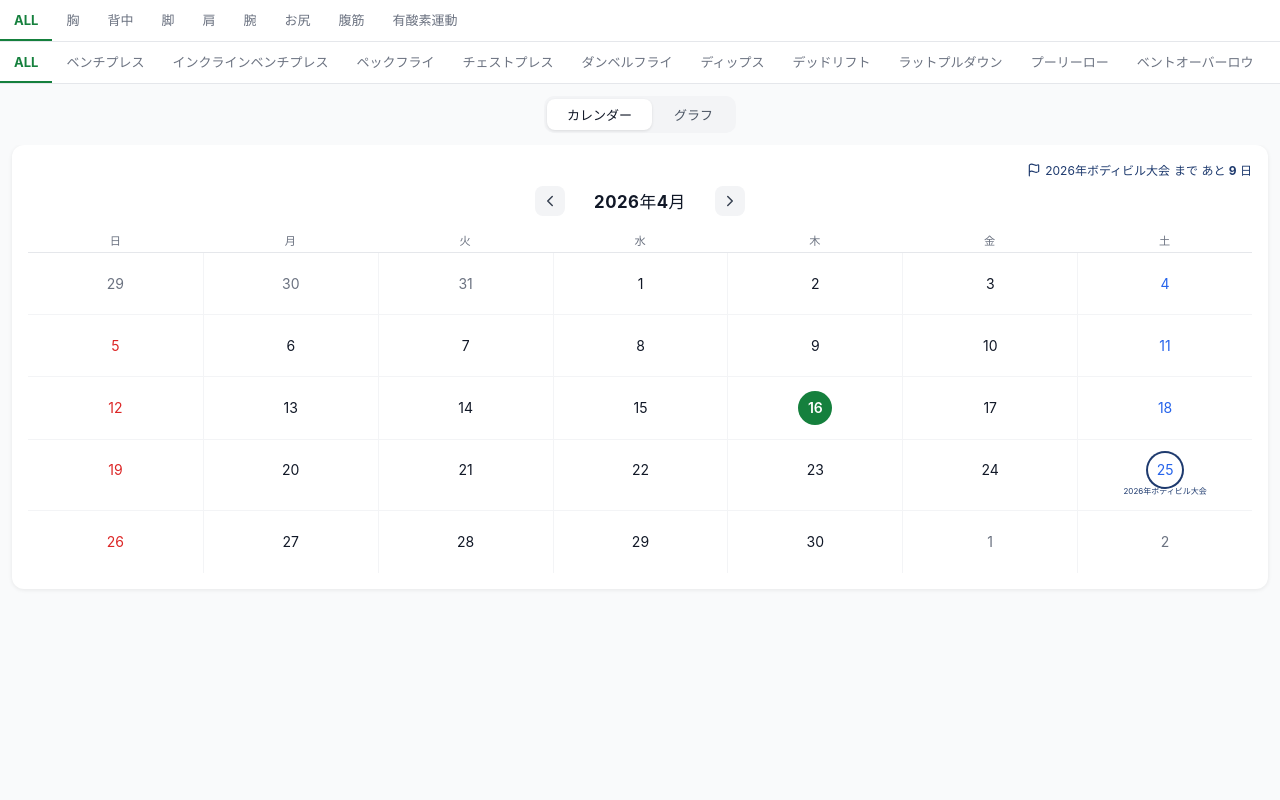
Test: HistoryPage — 日付を押したとき › ポップアップを閉じると消える
The width and height of the screenshot is (1280, 800).
Click the button "25 2026年ボディビル大会": (1165, 474) [1077, 439, 1252, 510]
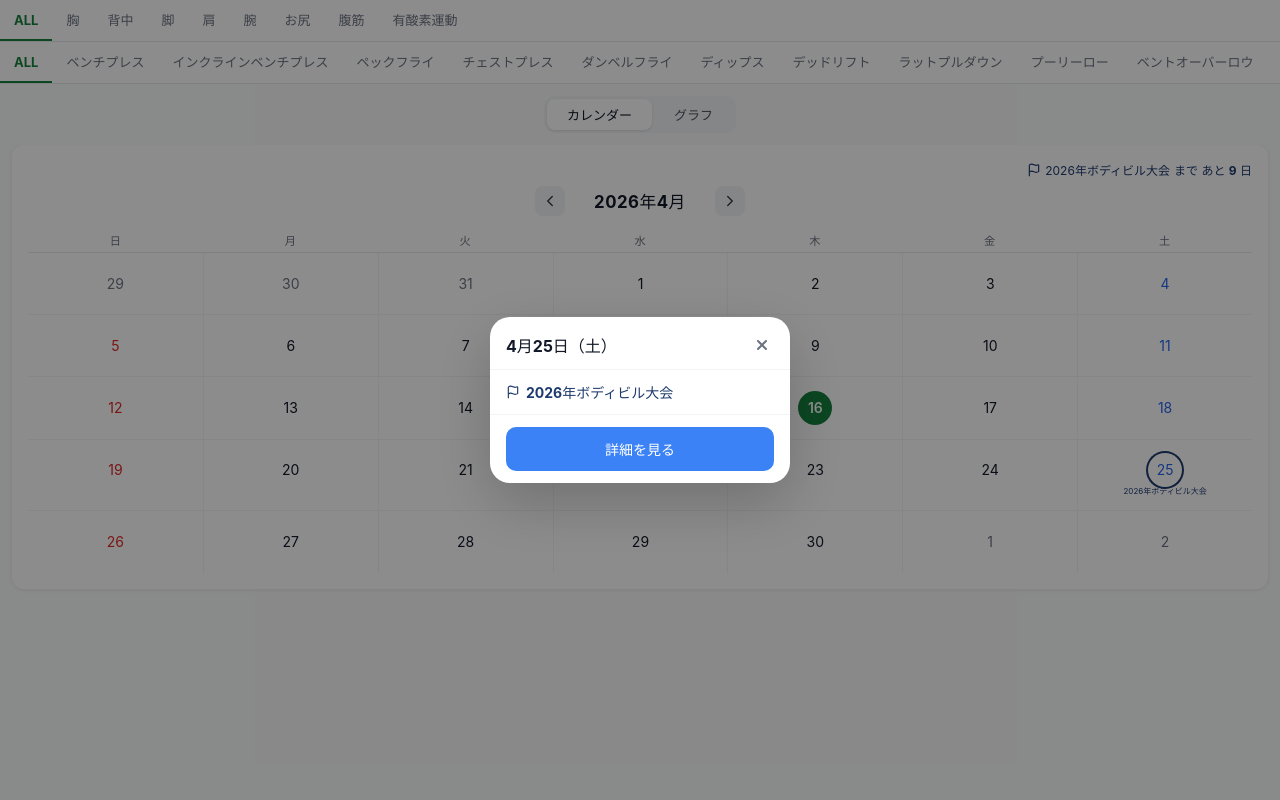
Click the button named "閉じる": (762, 345) [750, 333, 774, 357]
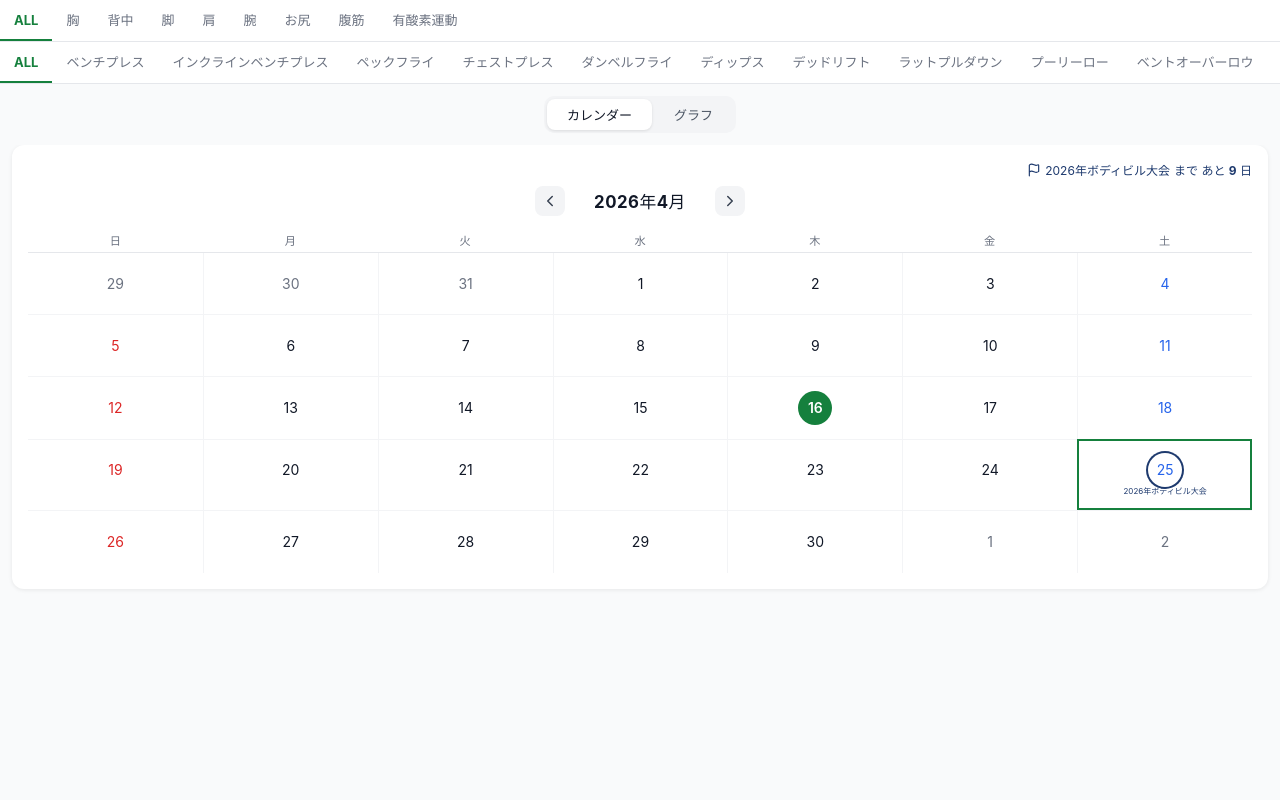
Expected: the element with test id "popup-overlay" is gone
